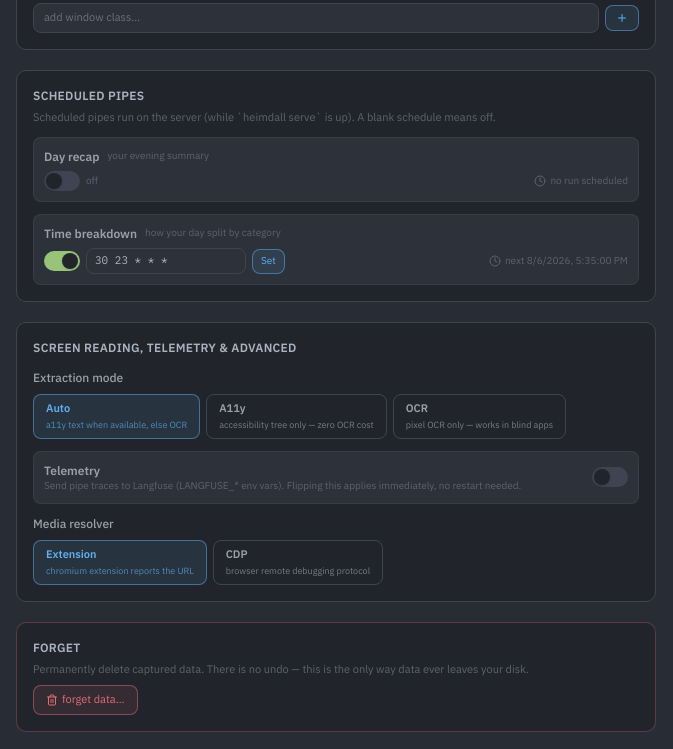
it: SettingsSurface · forget › requires the typed gate before arming
(page scrolled)
Click the button "forget data…" at x=85, y=700, box x1=33 y1=685 x2=138 y2=715
(page scrolled)
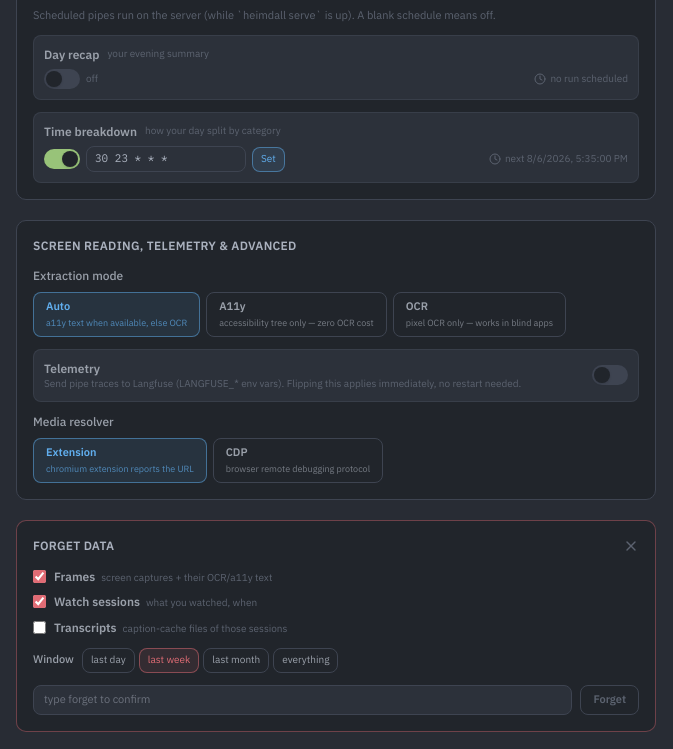
Expected: the button "Forget" is disabled, x1=580 y1=685 x2=639 y2=714
Type "forge" into the field labelled "type forget to confirm" at x=303, y=700, box x1=33 y1=685 x2=572 y2=714
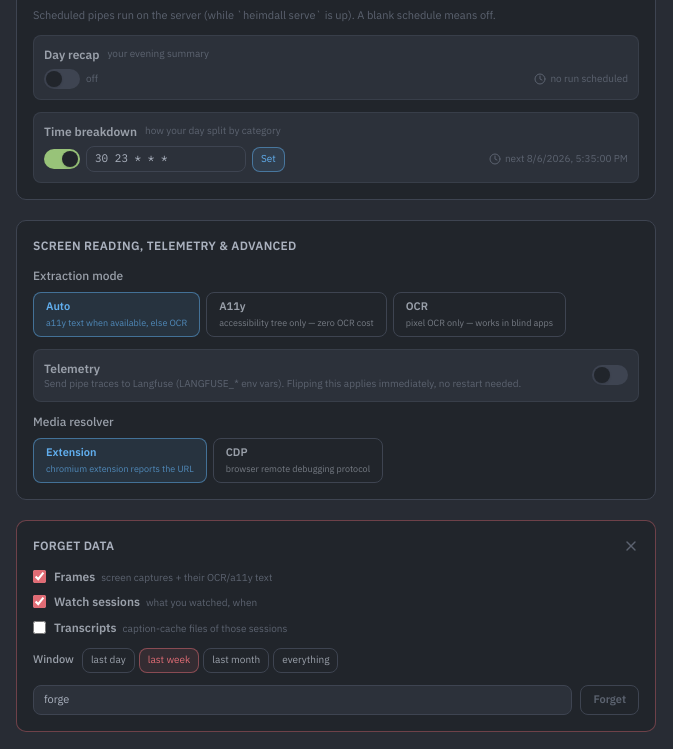
Expected: the button "Forget" is disabled, x1=580 y1=685 x2=639 y2=714
Replace the text in the field named "type forget to confirm" with "forget" at x=303, y=700, box x1=33 y1=685 x2=572 y2=714
(page scrolled)
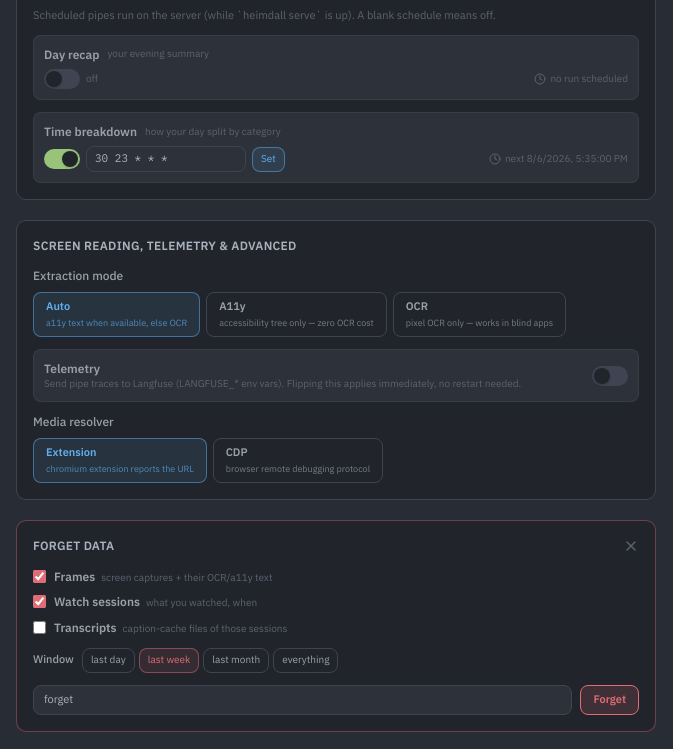
Expected: the button "Forget" is enabled, x1=580 y1=685 x2=639 y2=714
